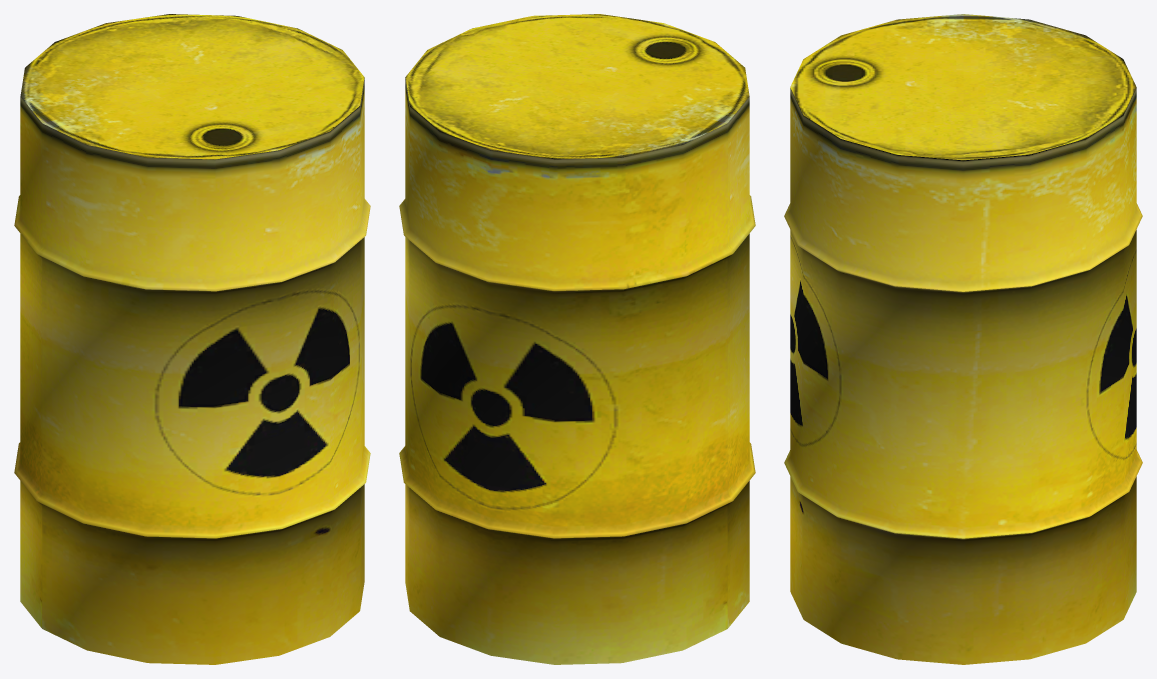
The model's file is barrel_acid_b.glb.
3 renders of one model, left to right at view 1: azimuth 30°, elevation 25°; view 2: azimuth 150°, elevation 25°; view 3: azimuth 270°, elevation 25°, orthographic.
Visible parts, largest first — view 1: AcidBarrel3_AcidBarrelV2_0; view 2: AcidBarrel3_AcidBarrelV2_0; view 3: AcidBarrel3_AcidBarrelV2_0.
Part boxes in pixels (<box>): AcidBarrel3_AcidBarrelV2_0: <box>14,14,370,664</box>; AcidBarrel3_AcidBarrelV2_0: <box>399,14,755,664</box>; AcidBarrel3_AcidBarrelV2_0: <box>784,14,1142,664</box>.
Bounding box in the file's own units: 0.5525 × 0.8574 × 0.5526.
1 material, 1 textured.
